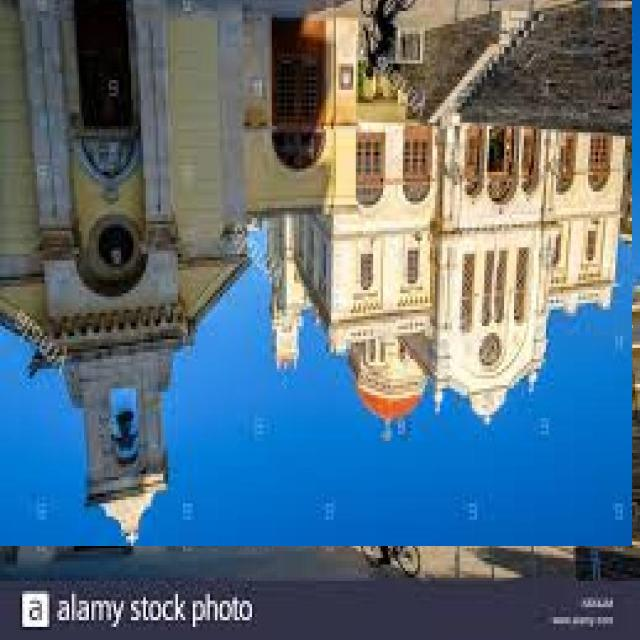Agios Minas: (1, 1, 633, 547)
